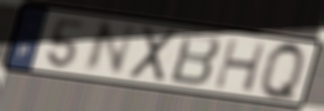5: (46, 17, 89, 70)
B: (167, 30, 224, 89)
H: (212, 36, 269, 94)
N: (78, 19, 139, 77)
Q: (259, 40, 307, 106)
X: (126, 24, 180, 84)
